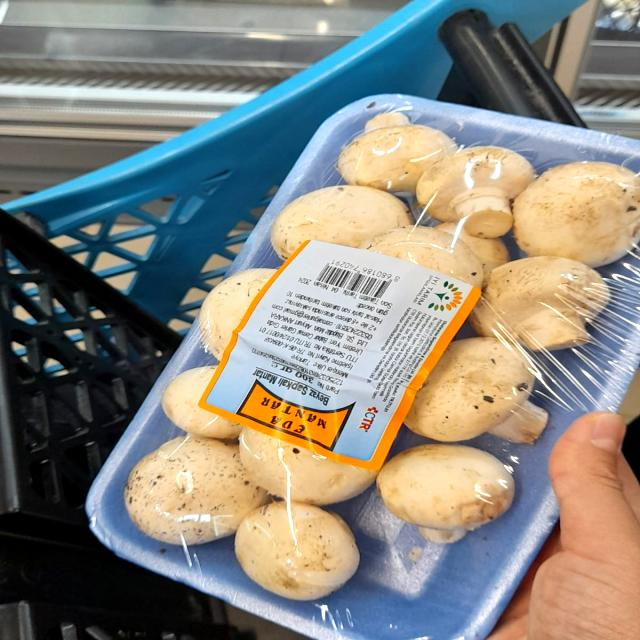mushroom: (373, 426, 550, 548), (118, 422, 270, 548), (473, 238, 619, 357), (225, 490, 371, 598), (416, 132, 545, 239), (333, 96, 463, 200)
